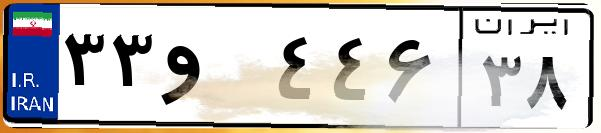3: (57, 26, 110, 100), (475, 38, 525, 113), (110, 28, 158, 98)
4: (270, 28, 330, 110), (330, 28, 385, 110)
6: (385, 28, 445, 110)
8: (525, 38, 570, 115)
و: (158, 20, 270, 120)
